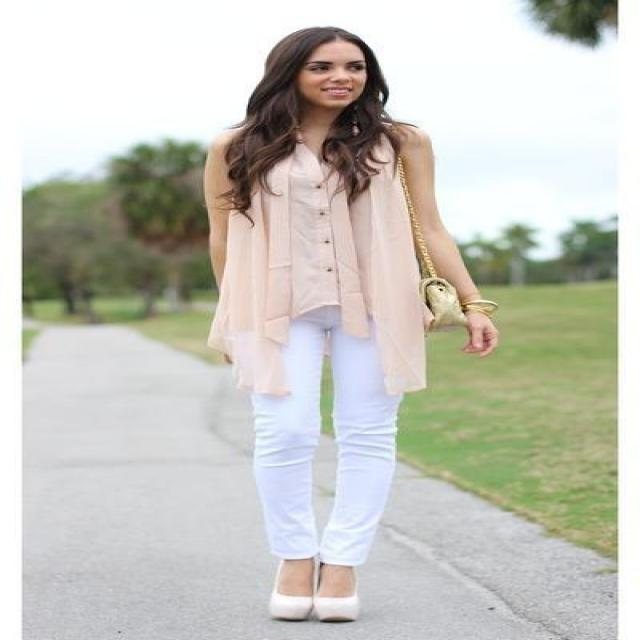bag: (422, 269, 496, 335)
pants: (232, 305, 402, 564)
shirt: (211, 147, 440, 394)
shoe: (269, 588, 357, 616)
